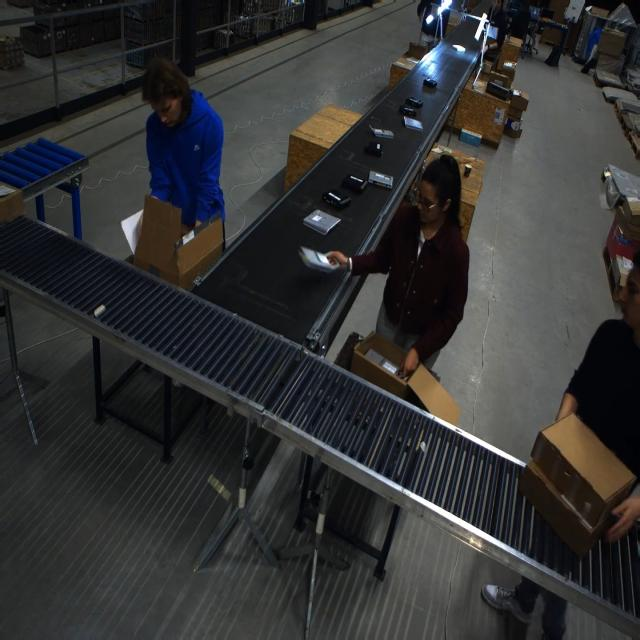box: (517, 411, 636, 555), (129, 194, 224, 289), (355, 331, 456, 419), (0, 183, 25, 227), (505, 87, 529, 119), (491, 62, 516, 87)
product: (290, 240, 347, 285), (302, 210, 340, 235), (321, 190, 351, 210), (341, 173, 368, 194), (368, 170, 394, 190), (369, 124, 392, 138), (363, 141, 383, 157), (403, 116, 423, 131), (399, 105, 416, 117), (405, 97, 423, 108), (423, 77, 438, 87), (451, 44, 465, 52)
